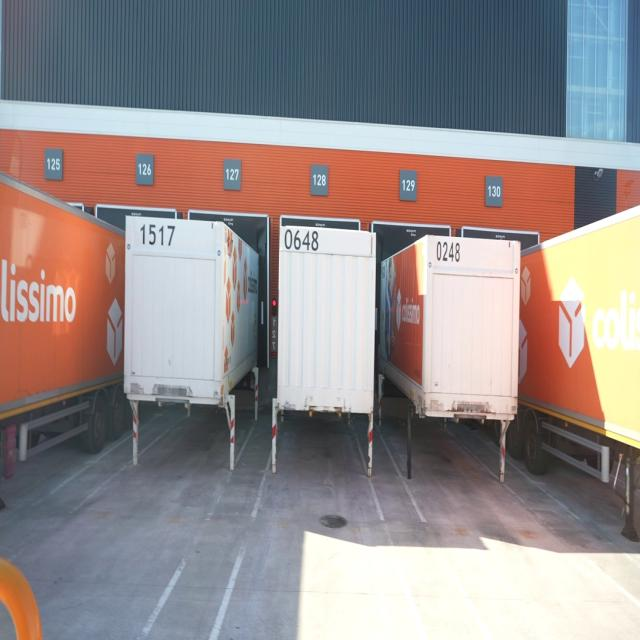Code: (279, 222, 322, 257), (134, 219, 178, 250), (433, 236, 463, 269)
